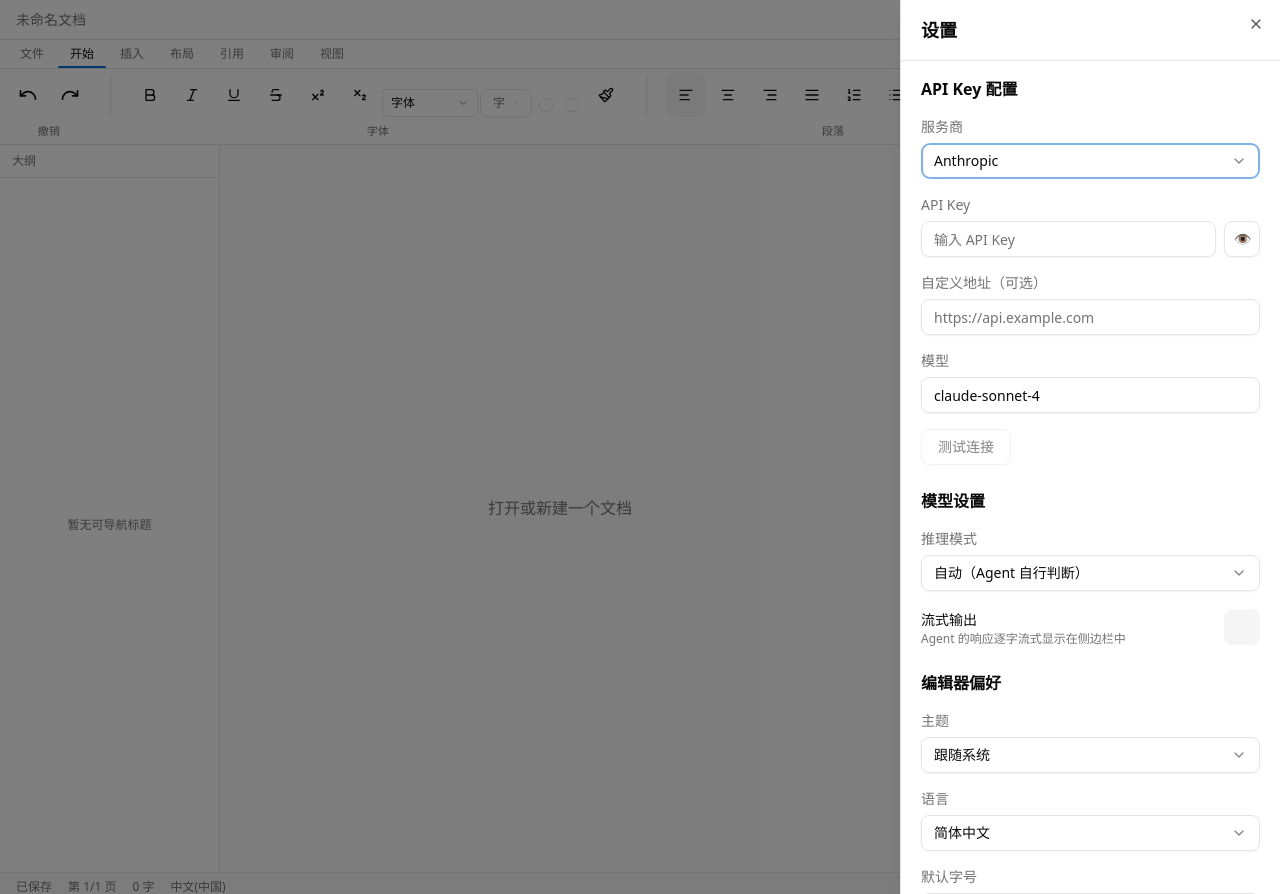
Test: App › reopens SettingsDrawer when clicking configure button
Press Escape
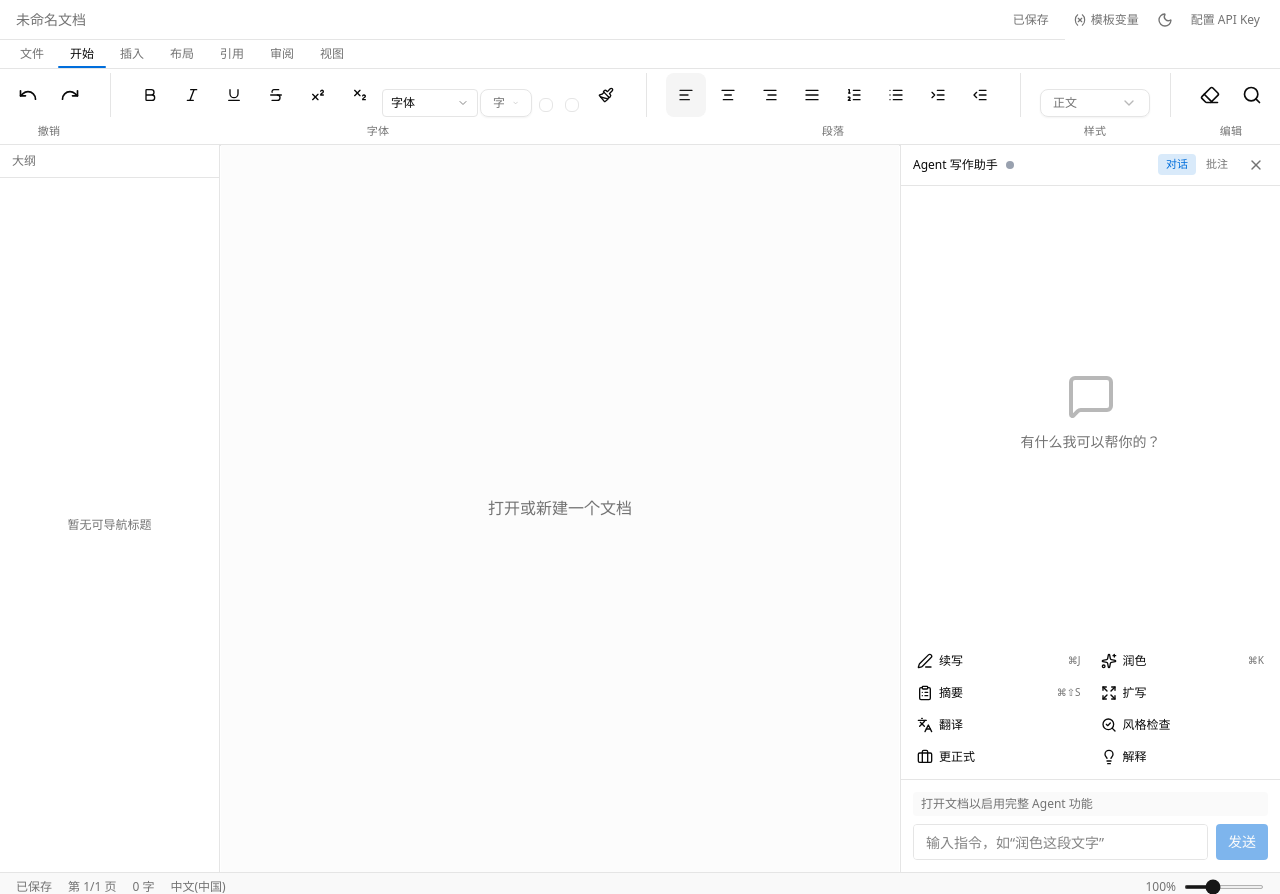
Expected: the heading "API Key 配置" is gone
Click the button "配置 API Key": [1225, 20] box [1183,8,1268,32]
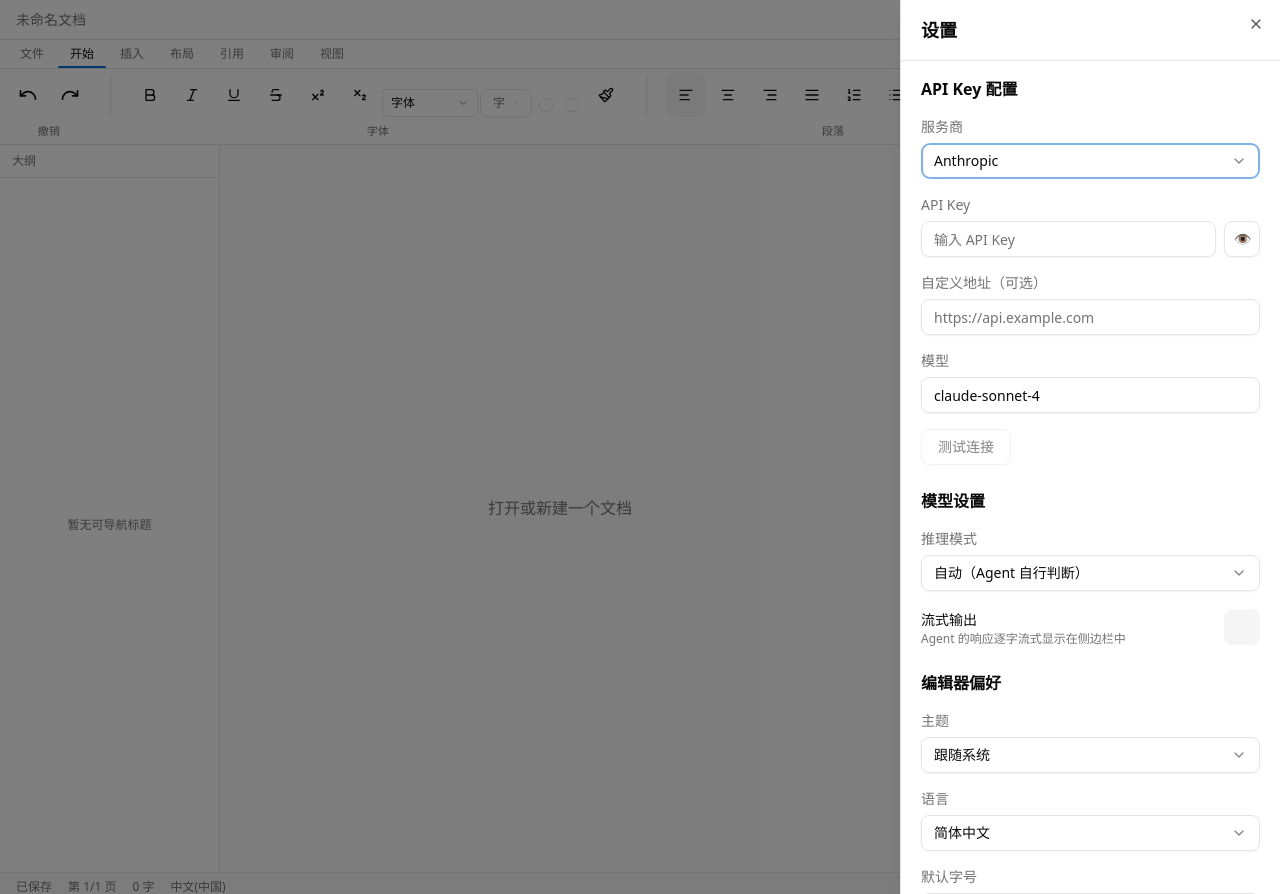
Expected: the heading "API Key 配置" is shown, [921,78,1018,100]
